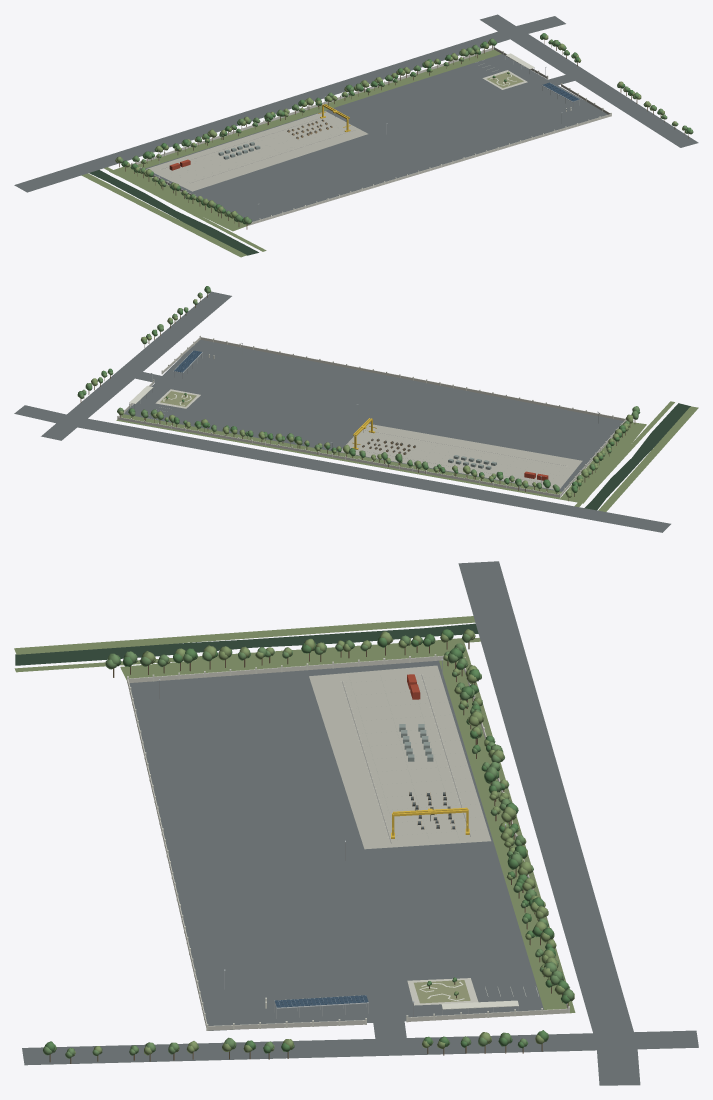
Rendered from ground.glb.
The picture shows the model from 3 angles, top to bottom: view 1: azimuth 30°, elevation 25°; view 2: azimuth 150°, elevation 25°; view 3: azimuth 270°, elevation 25°; orthographic projection. The views are drawn at different scales.
Parts seen in each view (by area): view 1: campus_asphalt, public-road_asphalt, stockyard_concrete, north_grass, boundary_curb, trees_foliage2, west_grass, trees_foliage1, trees_foliage0, bank_grass, canal_water, trees_bark (+1 smaller); view 2: campus_asphalt, public-road_asphalt, stockyard_concrete, boundary_curb, north_grass, west_grass, trees_foliage2, canal_water, bank_grass, trees_foliage1, trees_foliage0, boundary_white (+2 smaller); view 3: campus_asphalt, public-road_asphalt, stockyard_concrete, north_grass, trees_foliage2, trees_foliage1, west_grass, canal_water, bank_grass, boundary_curb, trees_foliage0, entrance_asphalt (+3 smaller).
Boxes of the visible parts, left/top/right/bottom form: campus_asphalt: left=145, top=54, right=607, bottom=221; public-road_asphalt: left=14, top=14, right=698, bottom=192; stockyard_concrete: left=146, top=111, right=367, bottom=191; north_grass: left=130, top=49, right=501, bottom=168; boundary_curb: left=132, top=47, right=610, bottom=225; trees_foliage2: left=115, top=35, right=683, bottom=218; west_grass: left=109, top=166, right=247, bottom=231; trees_foliage1: left=119, top=35, right=693, bottom=224; trees_foliage0: left=121, top=33, right=691, bottom=224; bank_grass: left=81, top=167, right=266, bottom=257; canal_water: left=89, top=169, right=258, bottom=255; trees_bark: left=119, top=39, right=688, bottom=229; campus_asphalt: left=124, top=339, right=623, bottom=491; public-road_asphalt: left=14, top=291, right=670, bottom=532; stockyard_concrete: left=341, top=424, right=582, bottom=489; boundary_curb: left=118, top=337, right=626, bottom=497; north_grass: left=116, top=414, right=561, bottom=499; west_grass: left=559, top=422, right=646, bottom=503; trees_foliage2: left=77, top=295, right=633, bottom=497; canal_water: left=584, top=403, right=690, bottom=510; bank_grass: left=574, top=401, right=698, bottom=511; trees_foliage1: left=79, top=289, right=639, bottom=495; trees_foliage0: left=78, top=286, right=640, bottom=492; boundary_white: left=117, top=335, right=626, bottom=497; campus_asphalt: left=129, top=660, right=543, bottom=1030; public-road_asphalt: left=22, top=561, right=698, bottom=1085; stockyard_concrete: left=309, top=665, right=491, bottom=849; north_grass: left=439, top=657, right=575, bottom=1013; trees_foliage2: left=72, top=629, right=574, bottom=1056; trees_foliage1: left=43, top=633, right=574, bottom=1058; west_grass: left=120, top=638, right=468, bottom=680; canal_water: left=15, top=623, right=478, bottom=665; bank_grass: left=14, top=616, right=480, bottom=672; boundary_curb: left=127, top=655, right=568, bottom=1030; trees_foliage0: left=44, top=629, right=570, bottom=1053; entrance_asphalt: left=372, top=1016, right=408, bottom=1053.
Bounding box in the file's own units: 394 × 8.91 × 218.
